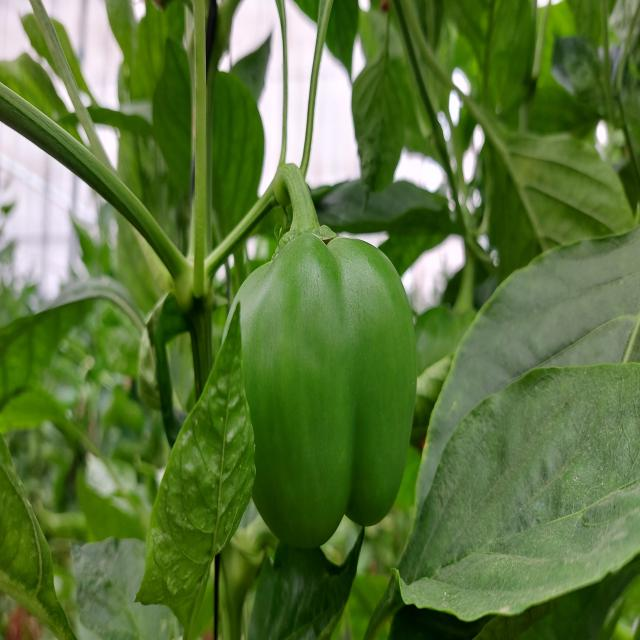Green--Not-ready-to-harvest: (230, 212, 421, 550)
